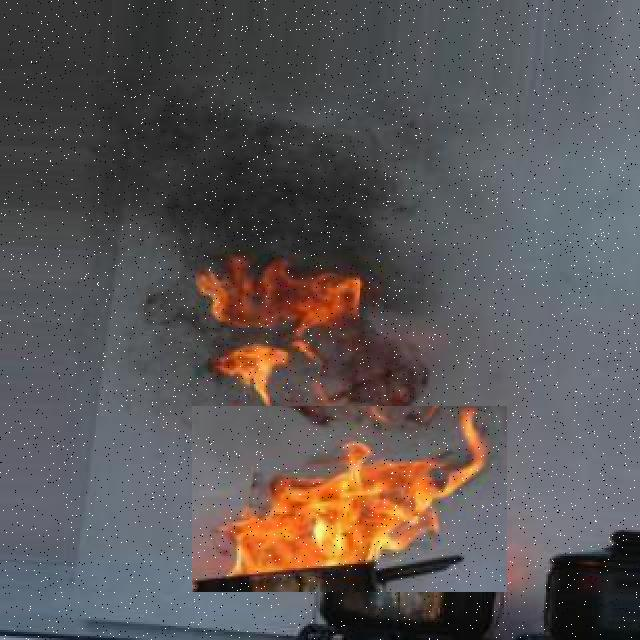fire: (192, 406, 507, 592), (195, 246, 360, 328)
